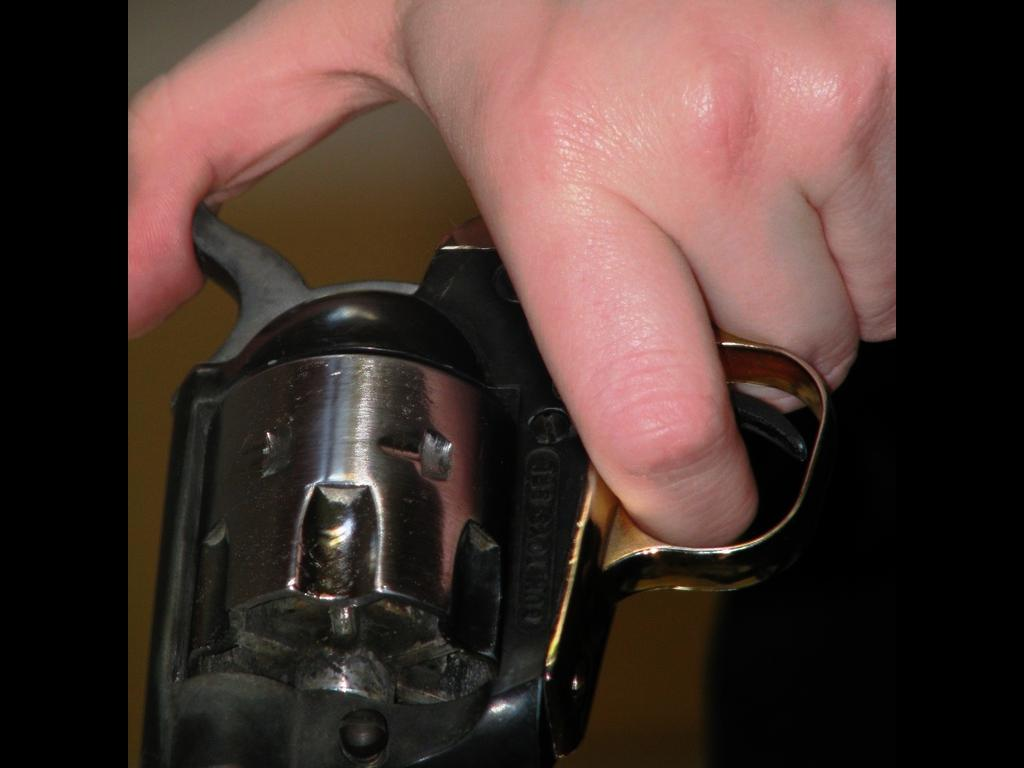gun: (136, 180, 836, 768)
